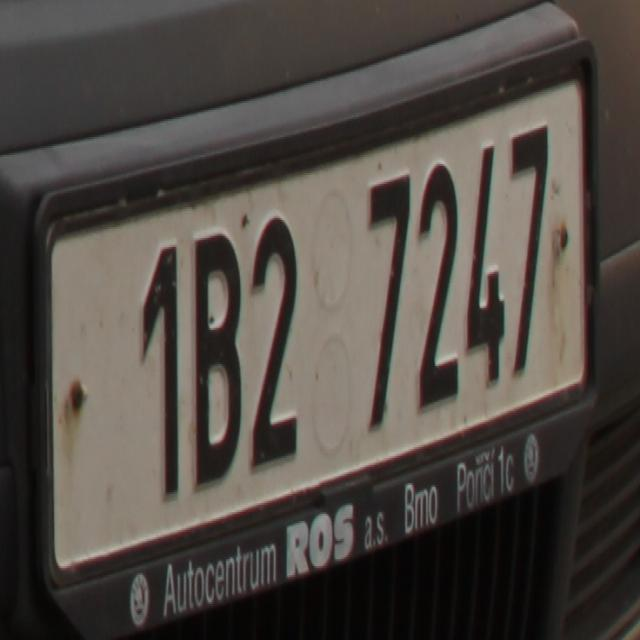1: (142, 243, 182, 500)
2: (248, 211, 298, 469), (417, 162, 460, 404)
4: (464, 144, 508, 386)
7: (364, 168, 410, 426), (510, 121, 550, 377)
B: (193, 223, 241, 494)
